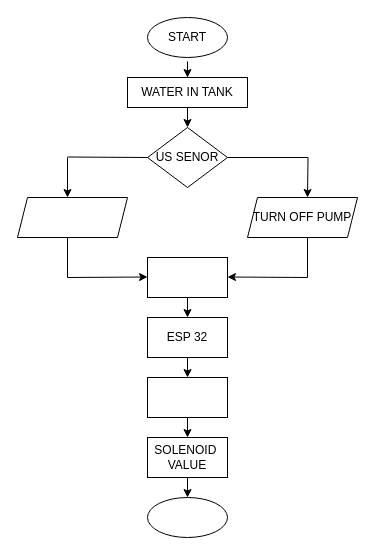
Image size: 375x555. Some labels were removed from this diagram. The shapes that lost their labels are listed below. From the top down, each one's centre as x and y in pixels, then its label:
At point 72,217: "TURN ON PUMP".
At point 187,277: "ARDUINO".
At point 187,397: "INTERNET".
